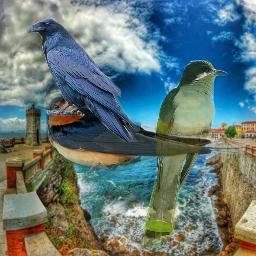Crow: (25, 17, 140, 142)
Cuckoo: (142, 60, 228, 252)
Swallow: (42, 91, 246, 173)
